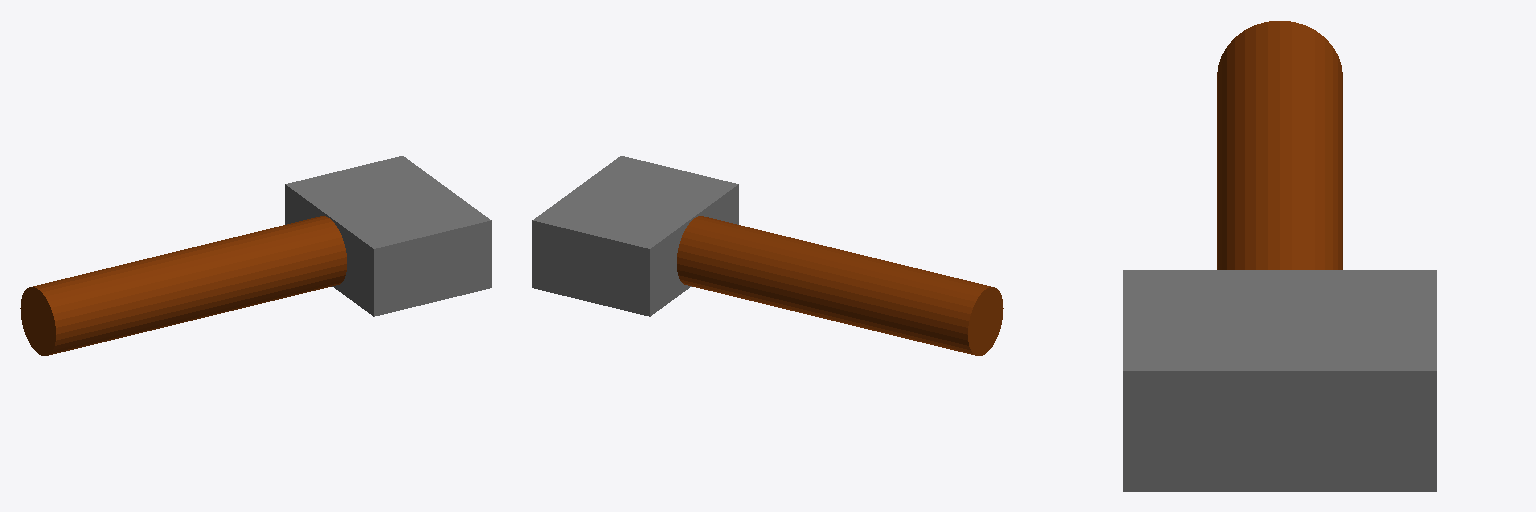
The robot description file, URDF, robot "handle_head":
<?xml version="1.0"?>
<robot name="handle_head">

  <link name="handle_head">
    <!-- Handle -->
    <visual>
              <origin xyz="0 0 0" rpy="0 -1.5707963267948966 0"/>
        <geometry>
          <cylinder length="0.1327175197731057" radius="0.014059981442425915"/>
        </geometry>
        
      <material name="brown">
        <color rgba="0.55 0.27 0.07 1.0"/>
      </material>
    </visual>
    <collision>
              <origin xyz="0 0 0" rpy="0 -1.5707963267948966 0"/>
        <geometry>
          <cylinder length="0.1327175197731057" radius="0.014059981442425915"/>
        </geometry>
        
    </collision>

    <!-- Head -->
    <visual>
              <origin xyz="0.0931587296075273 0 0" rpy="0 0 0"/>
        <geometry>
          <box size="0.05359993944194891 0.0699520183961086 0.029499848346341034"/>
        </geometry>
        
      <material name="gray">
        <color rgba="0.5 0.5 0.5 1.0"/>
      </material>
    </visual>
    <collision>
              <origin xyz="0.0931587296075273 0 0" rpy="0 0 0"/>
        <geometry>
          <box size="0.05359993944194891 0.0699520183961086 0.029499848346341034"/>
        </geometry>
        
    </collision>

    <inertial>
      <origin xyz="0.0466567550401957 0 0" rpy="0 0 0"/>
      <mass value="0.06642711333940526"/>
      <inertia ixx="1.9175066094697513e-05" iyy="0.0002198508594014902" izz="0.00023100432599116298" ixy="0" ixz="0" iyz="0"/>
    </inertial>
  </link>

</robot>

--- Render facts (derived) ---
Views: 3 orthographic renders of the robot side by side, from view 1: azimuth 30°, elevation 25°; view 2: azimuth 150°, elevation 25°; view 3: azimuth 270°, elevation 25°.
Robot: handle_head — 1 links, 0 joints (none); root link handle_head; default pose: all joints at 0.
Links seen in each view (by area): view 1: handle_head; view 2: handle_head; view 3: handle_head.
Link boxes in pixels (x1,y1,x2,y2): handle_head: [20, 156, 491, 355]; handle_head: [532, 156, 1003, 355]; handle_head: [1123, 21, 1436, 491].
Size in the robot's own frame: 0.1863 by 0.07 by 0.0295 metres.
Geometry: primitives only (box / cylinder / sphere), no mesh files.
